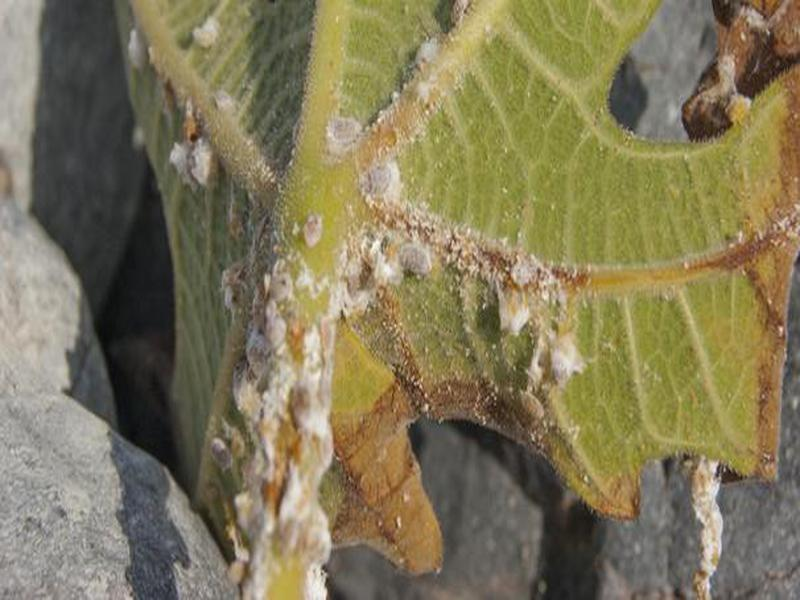Mealy_bug: (365, 185, 620, 422), (222, 259, 331, 593)
